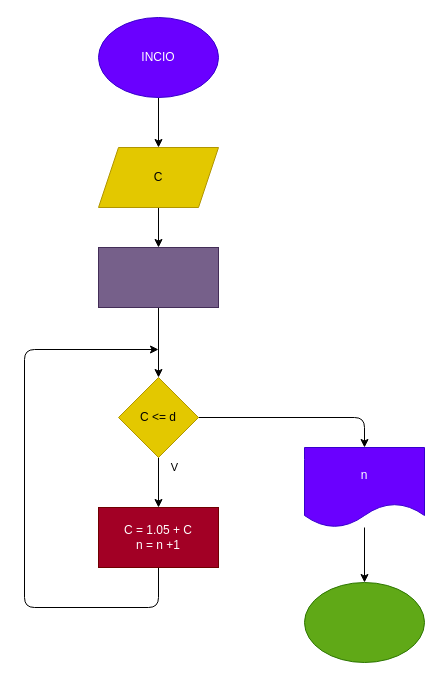
The diagram is 442 pixels wide and 680 high, and some of its shapes have lost their labels. The shapes that lost their labels are listed below. From the top down, each one's centre as x and y in pixels, then its label:
the point at 158,277: n = 0 d = 2* C
the point at 364,622: FIN
